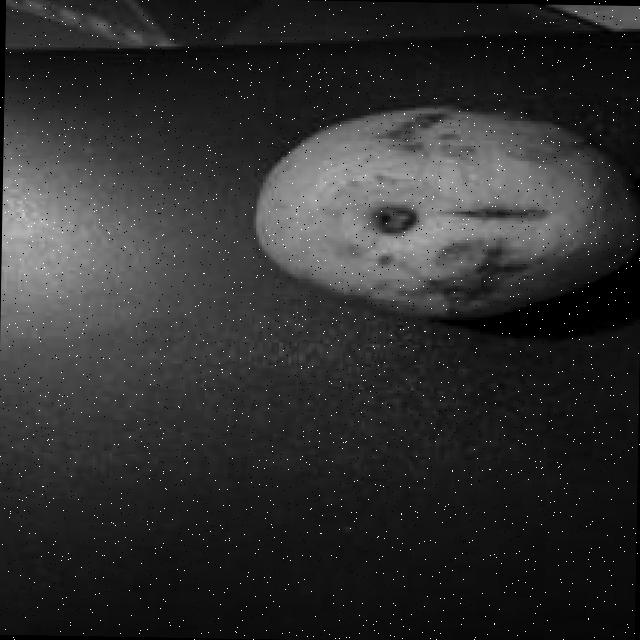overripe: (247, 92, 637, 333)
